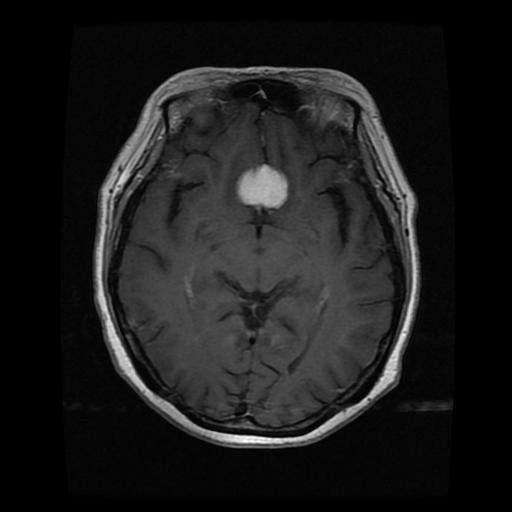Tumour-Meningioma: (228, 158, 301, 218)
